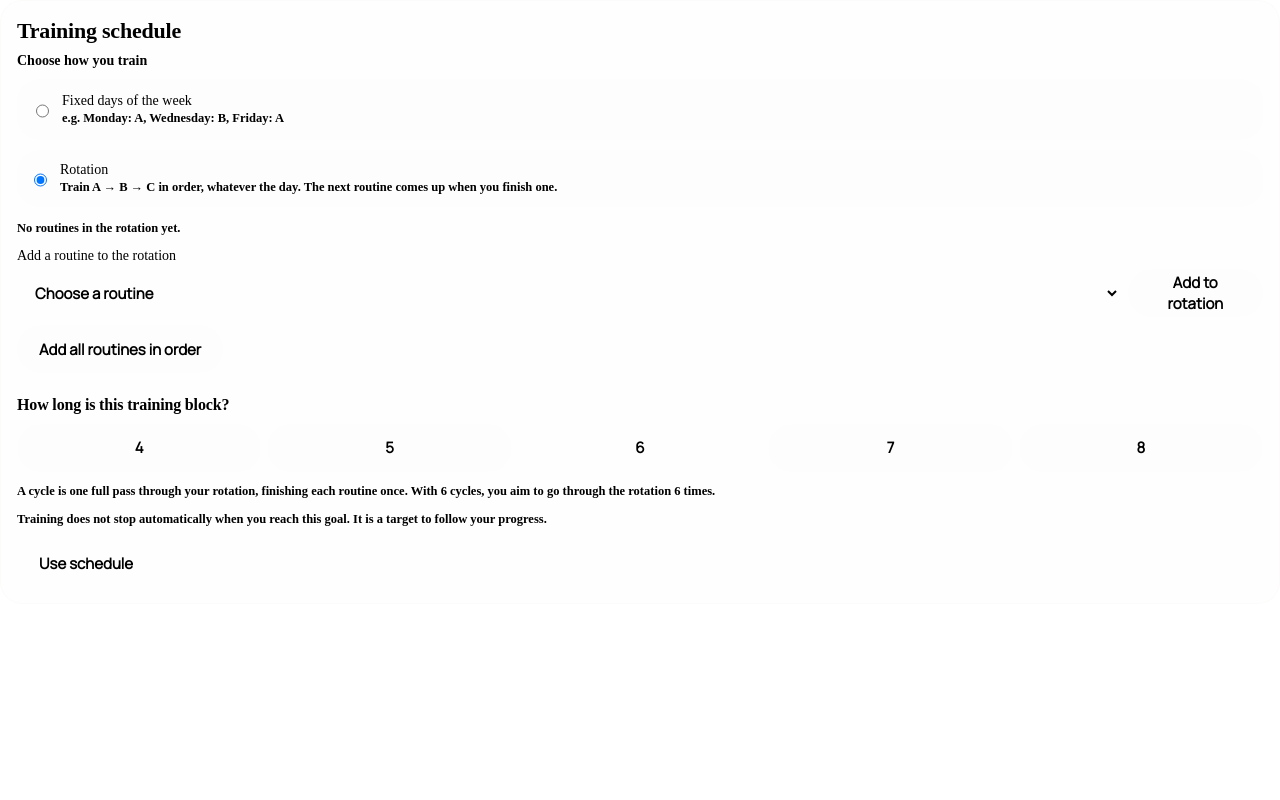
it: ScheduleEditor › asks for a routine in the rotation only after attempting Next
Click the button "Use schedule" at (86, 563), box [17,539,155,587]
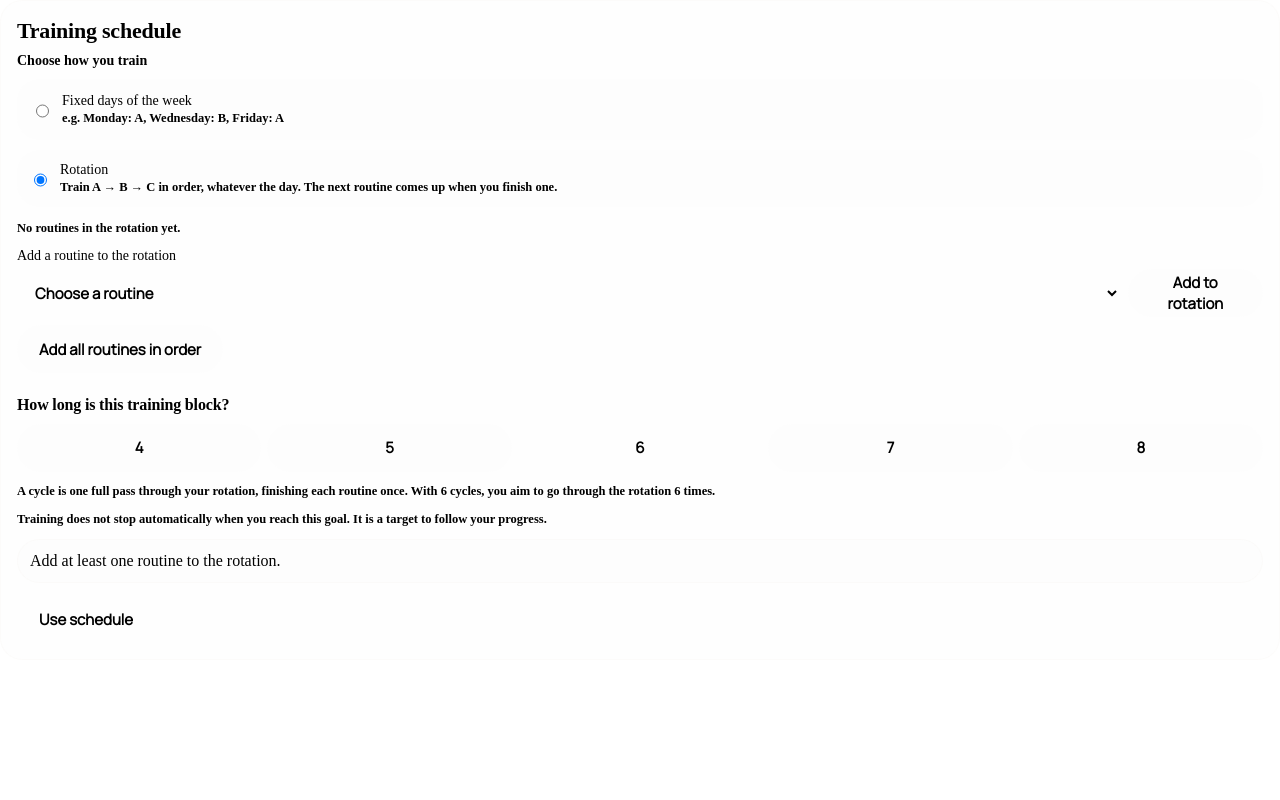
Now the message "Add at least one routine to the rotation." is shown, box [17,539,1263,583]
